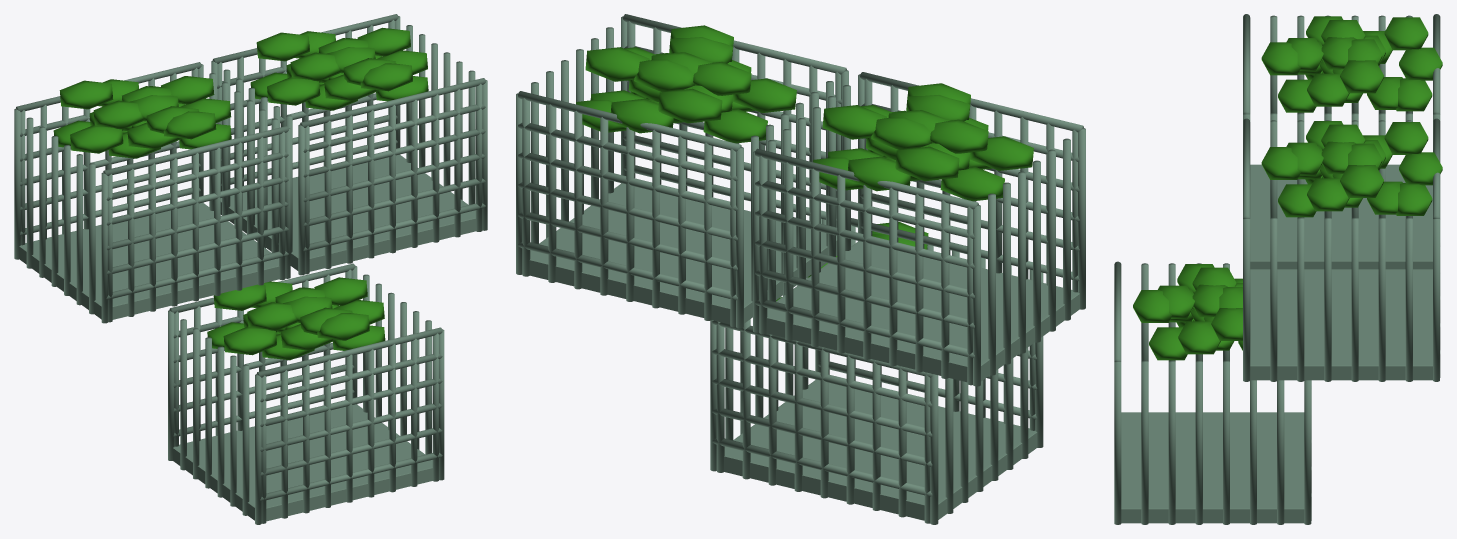
The picture shows the model from 3 angles, left to right: view 1: azimuth 30°, elevation 25°; view 2: azimuth 150°, elevation 25°; view 3: azimuth 270°, elevation 25°; orthographic projection. The views are drawn at different scales.
Parts seen in each view (by area): view 1: TI050 / crate floor.002, TI050 / crate floor, TI050 / crate floor.001, TI050 / crate lattice rail.029, TI050 / crate lattice rail.017, TI050 / crate lattice rail.005, TI050 / coiled seaweed fill.039, TI050 / coiled seaweed fill.014, TI050 / coiled seaweed fill.054, TI050 / coiled seaweed fill.004, TI050 / coiled seaweed fill.029, TI050 / crate end lattice.006 (+111 smaller); view 2: TI050 / crate floor.002, TI050 / crate floor, TI050 / crate floor.001, TI050 / coiled seaweed fill.039, TI050 / coiled seaweed fill.014, TI050 / crate lattice rail.011, TI050 / crate lattice rail.023, TI050 / crate lattice rail.018, TI050 / crate lattice rail.020, TI050 / crate lattice rail.019, TI050 / crate lattice rail.009, TI050 / crate lattice rail.022 (+91 smaller); view 3: TI050 / crate floor.001, TI050 / crate floor.002, TI050 / crate floor, TI050 / crate end lattice.026, TI050 / crate end lattice.028, TI050 / crate end lattice.030, TI050 / crate end lattice.025, TI050 / crate end lattice.027, TI050 / crate end lattice.029, TI050 / crate end lattice.041, TI050 / crate end lattice.042, TI050 / crate end lattice.043 (+50 smaller).
Boxes of the visible parts, <box> form: TI050 / crate floor.002: <box>173,404,432,521</box>; TI050 / crate floor: <box>19,202,279,319</box>; TI050 / crate floor.001: <box>220,154,476,271</box>; TI050 / crate lattice rail.029: <box>256,327,442,377</box>; TI050 / crate lattice rail.017: <box>300,78,485,127</box>; TI050 / crate lattice rail.005: <box>103,126,288,175</box>; TI050 / coiled seaweed fill.039: <box>256,32,309,61</box>; TI050 / coiled seaweed fill.014: <box>59,80,113,109</box>; TI050 / coiled seaweed fill.054: <box>223,326,276,355</box>; TI050 / coiled seaweed fill.004: <box>70,125,123,153</box>; TI050 / coiled seaweed fill.029: <box>267,77,320,105</box>; TI050 / crate end lattice.006: <box>26,117,33,268</box>; TI050 / crate floor.002: <box>724,379,1037,520</box>; TI050 / crate floor: <box>766,241,1079,382</box>; TI050 / crate floor.001: <box>529,183,837,324</box>; TI050 / coiled seaweed fill.039: <box>658,88,722,123</box>; TI050 / coiled seaweed fill.014: <box>895,146,959,181</box>; TI050 / crate lattice rail.011: <box>755,148,978,209</box>; TI050 / crate lattice rail.023: <box>518,91,741,151</box>; TI050 / crate lattice rail.018: <box>518,242,737,300</box>; TI050 / crate lattice rail.020: <box>518,182,737,240</box>; TI050 / crate lattice rail.019: <box>518,212,737,270</box>; TI050 / crate lattice rail.009: <box>755,210,974,268</box>; TI050 / crate lattice rail.022: <box>518,123,737,180</box>; TI050 / crate floor.001: <box>1250,269,1432,380</box>; TI050 / crate floor.002: <box>1121,412,1304,523</box>; TI050 / crate floor: <box>1250,164,1432,269</box>; TI050 / crate end lattice.026: <box>1297,217,1304,381</box>; TI050 / crate end lattice.028: <box>1351,217,1358,381</box>; TI050 / crate end lattice.030: <box>1405,217,1412,381</box>; TI050 / crate end lattice.025: <box>1270,217,1277,381</box>; TI050 / crate end lattice.027: <box>1324,217,1331,381</box>; TI050 / crate end lattice.029: <box>1378,217,1385,381</box>; TI050 / crate end lattice.041: <box>1141,360,1148,524</box>; TI050 / crate end lattice.042: <box>1168,360,1175,524</box>; TI050 / crate end lattice.043: <box>1195,360,1202,524</box>.
Bounding box in the file's own units: 2.45 × 2.14 × 1.66.
